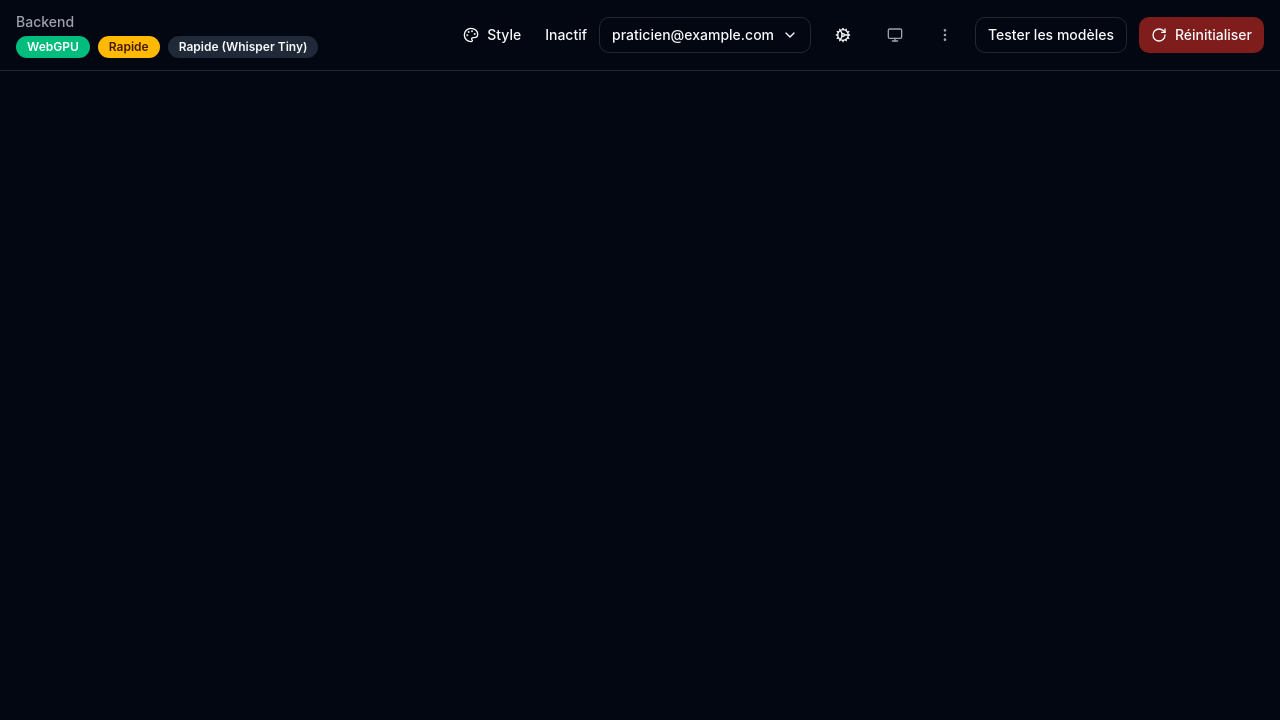
Test case: Topbar › opens the password change dialog from the account menu and submits it
The image size is (1280, 720).
Step 1. Click the button "praticien@example.com" → (705, 35), box [599,17,811,53]
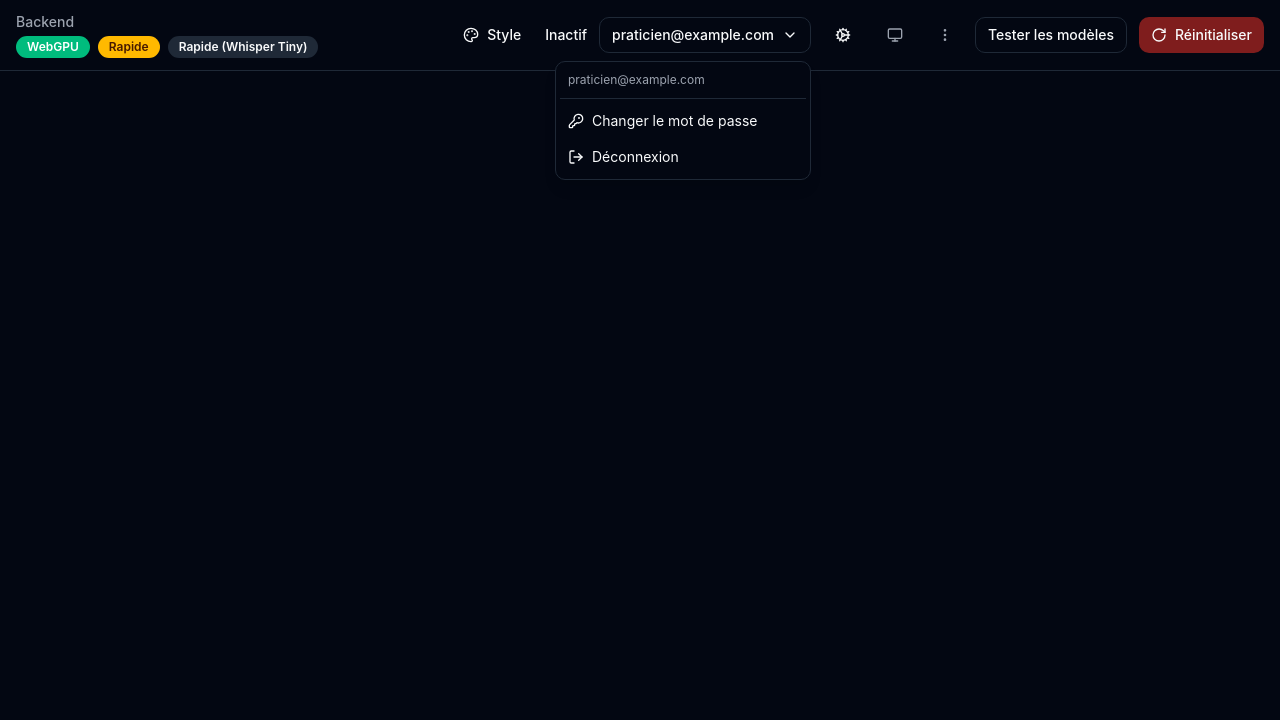
Step 2. Click the menu item "Changer le mot de passe" → (663, 120), box [568,112,758,129]
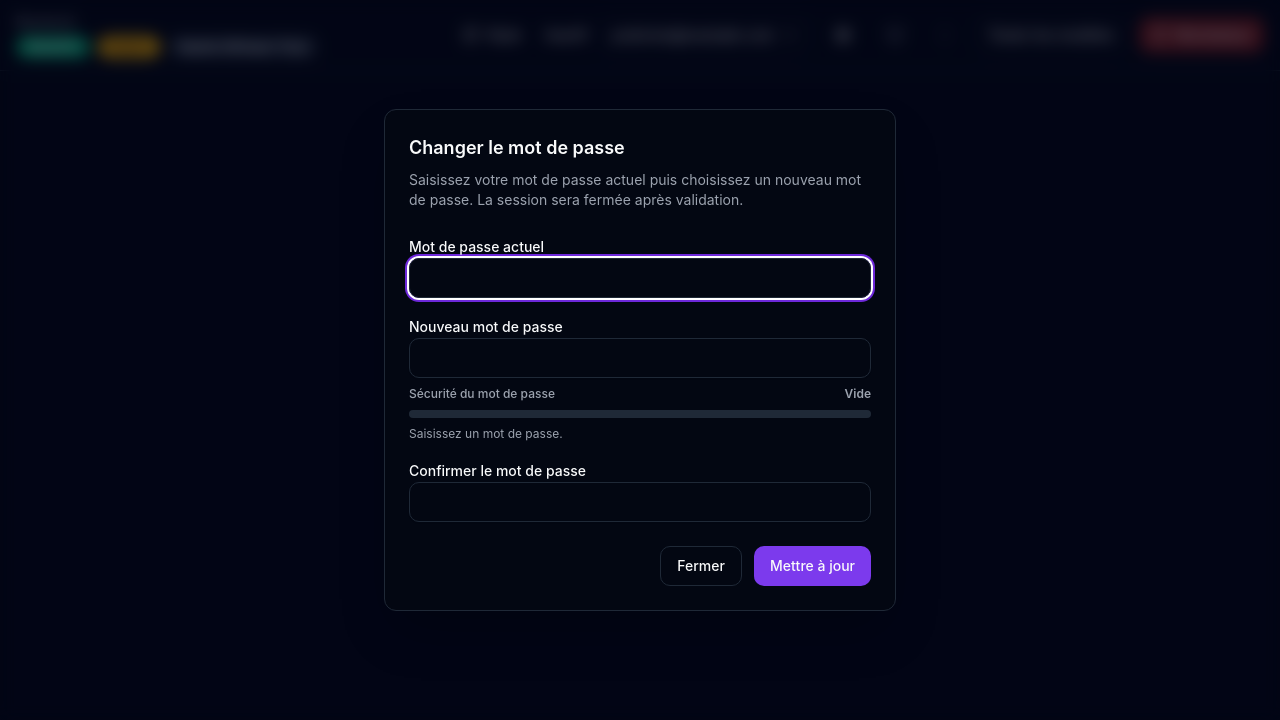
Result: the dialog "Changer le mot de passe" is shown at [384,109,896,611]
Step 3. Type "ChangeMe123!" into the password field labelled "Mot de passe actuel" → (640, 278), box [409,258,871,298]
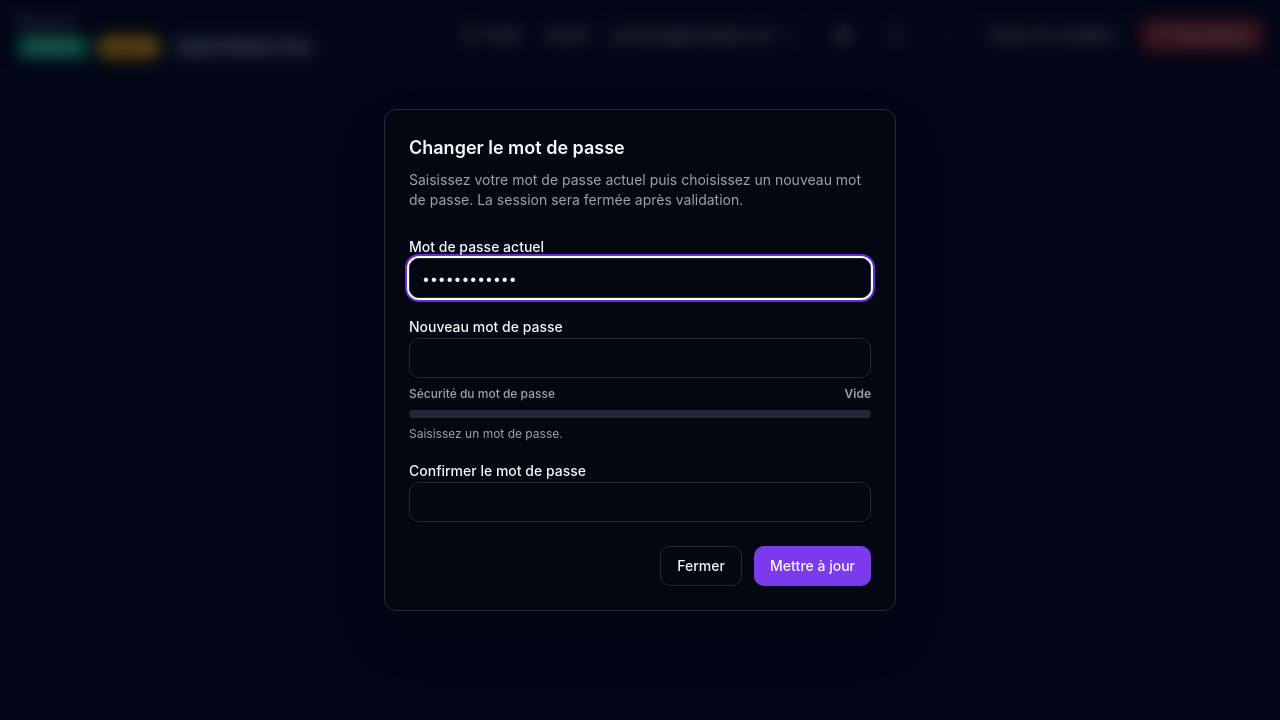
Step 4. Type "NewPass123!" into the password field labelled "Nouveau mot de passe" → (640, 358), box [409,338,871,378]
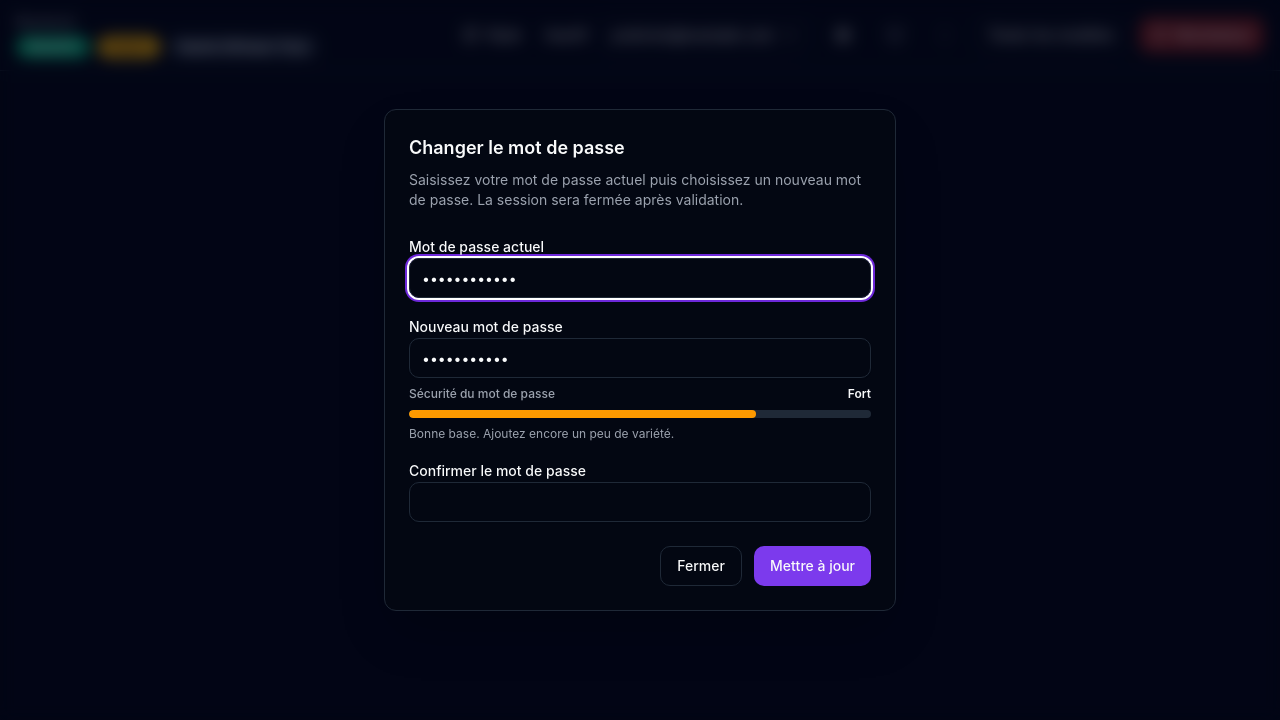
Result: the progress indicator named "Sécurité du mot de passe" has attribute aria-valuenow="3" at [409,410,871,418]
Step 5. Type "NewPass123!" into the password field labelled "Confirmer le mot de passe" → (640, 502), box [409,482,871,522]
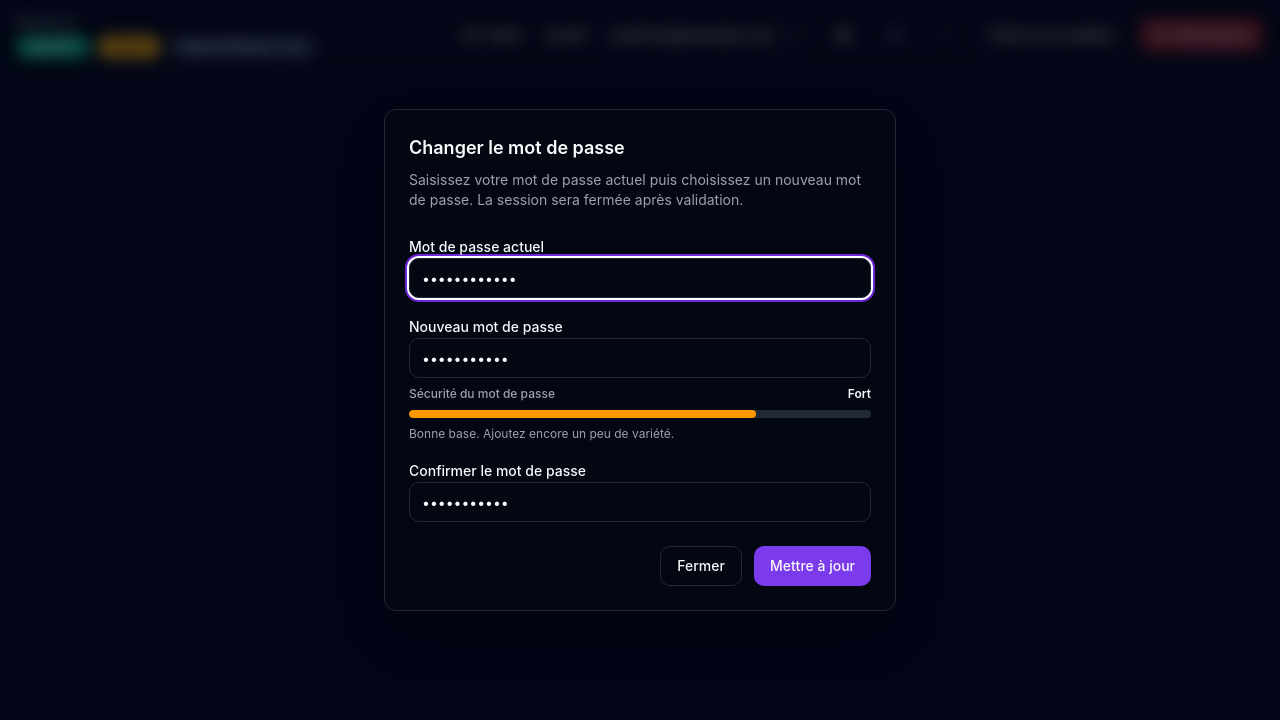
Step 6. Click the button "Mettre à jour" → (812, 566), box [754,546,871,586]
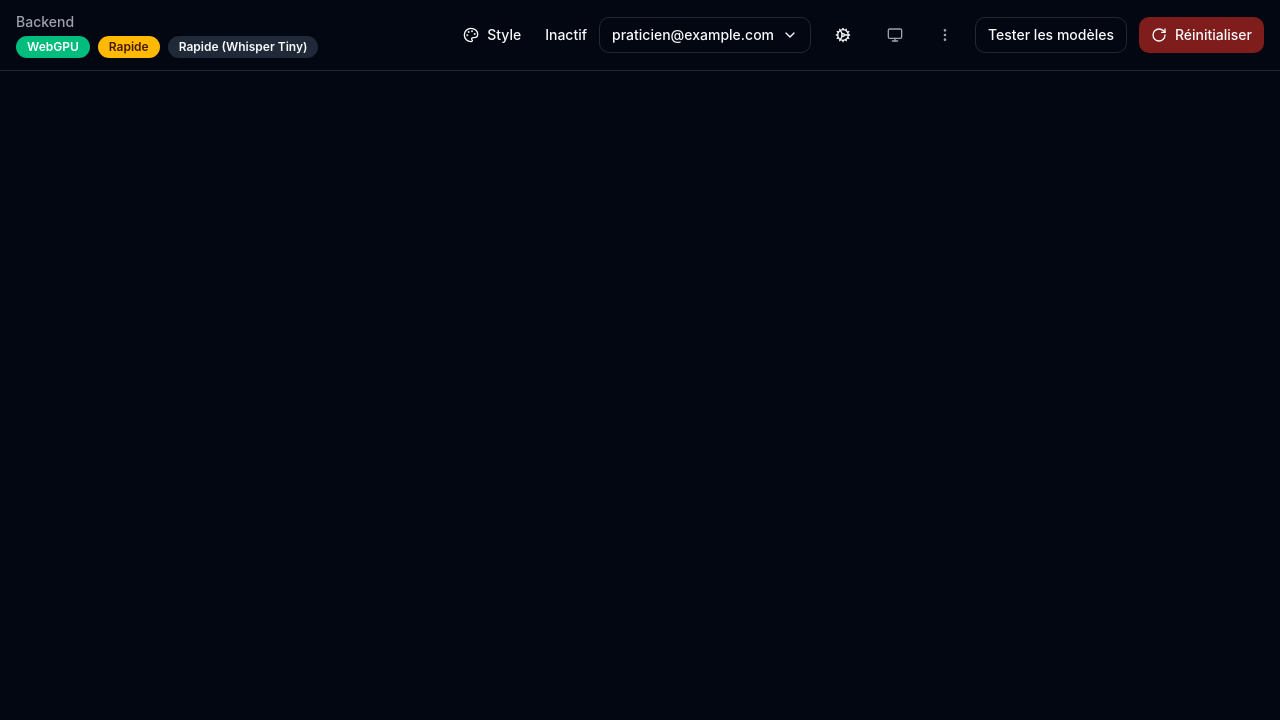
Result: the heading "Changer le mot de passe" is gone
